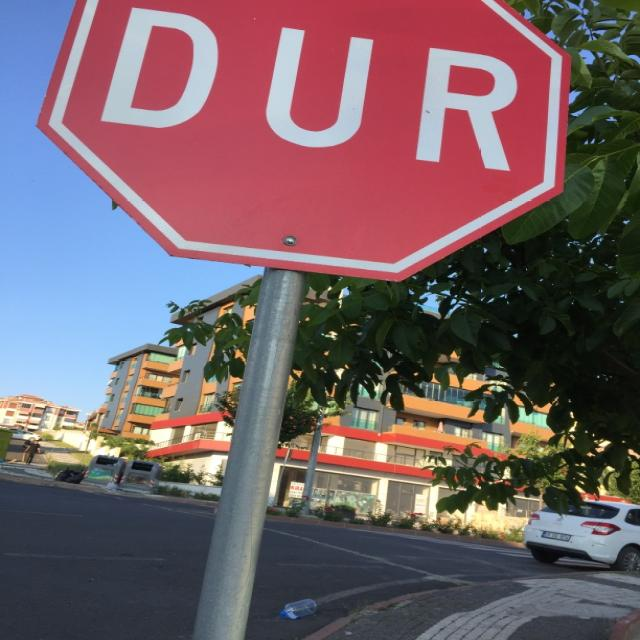dur: (35, 1, 572, 283)
